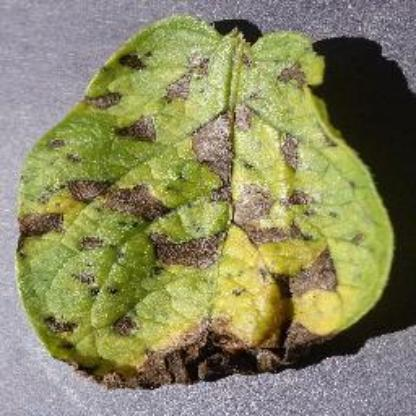Early-Blight: (19, 16, 402, 392)
